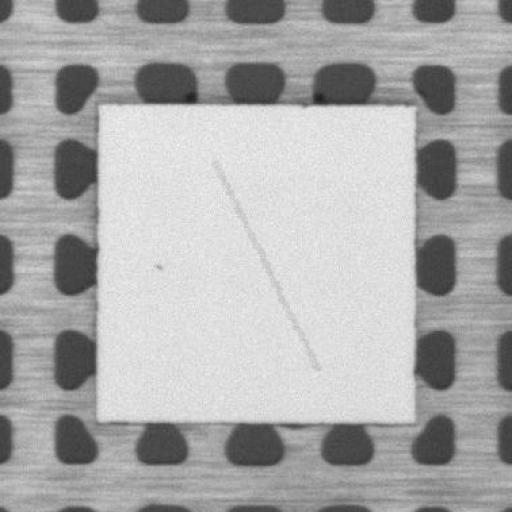DIE_CRACK: (214, 161, 317, 369)
DIE_INK: (148, 258, 165, 272)
